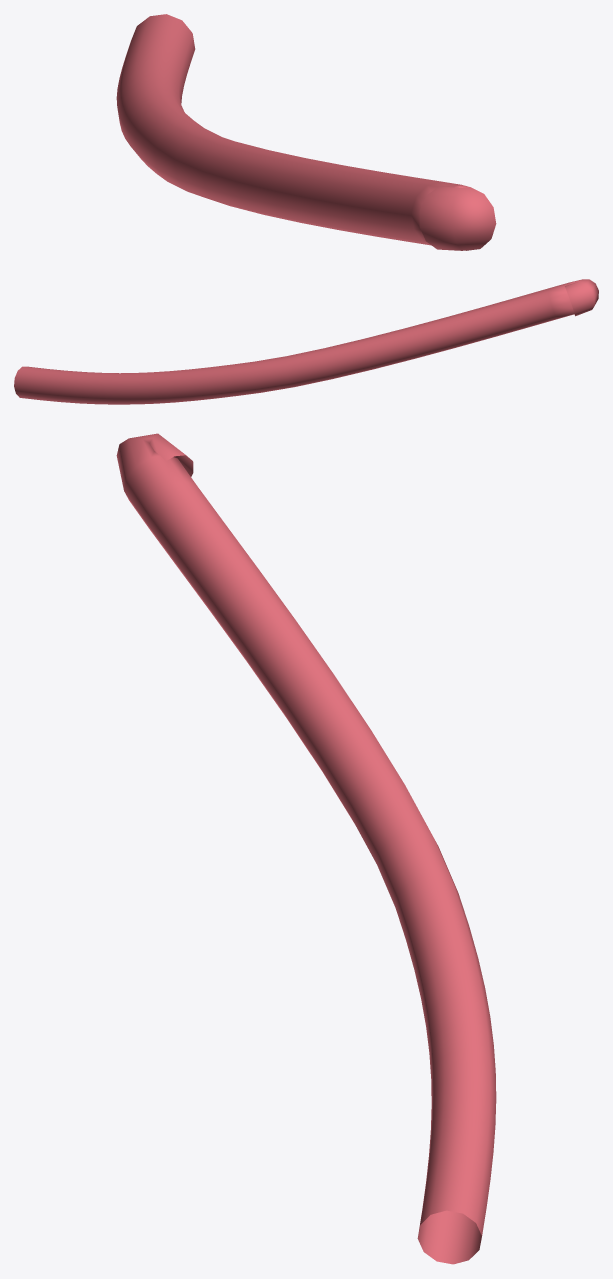
The picture shows the model from 3 angles, top to bottom: view 1: azimuth 90°, elevation 25°; view 2: azimuth 150°, elevation 25°; view 3: azimuth 270°, elevation 25°; orthographic projection. The views are drawn at different scales.
Parts seen in each view (by area): view 1: ZA_1deffe24f7f7eb67; view 2: ZA_1deffe24f7f7eb67; view 3: ZA_1deffe24f7f7eb67.
Boxes of the visible parts, box(x1,y1,x2,y2) form: ZA_1deffe24f7f7eb67: box(116, 14, 496, 250); ZA_1deffe24f7f7eb67: box(14, 279, 598, 404); ZA_1deffe24f7f7eb67: box(116, 433, 496, 1264).
Bounding box in the file's own units: 0.0249 × 0.00848 × 0.00817.
